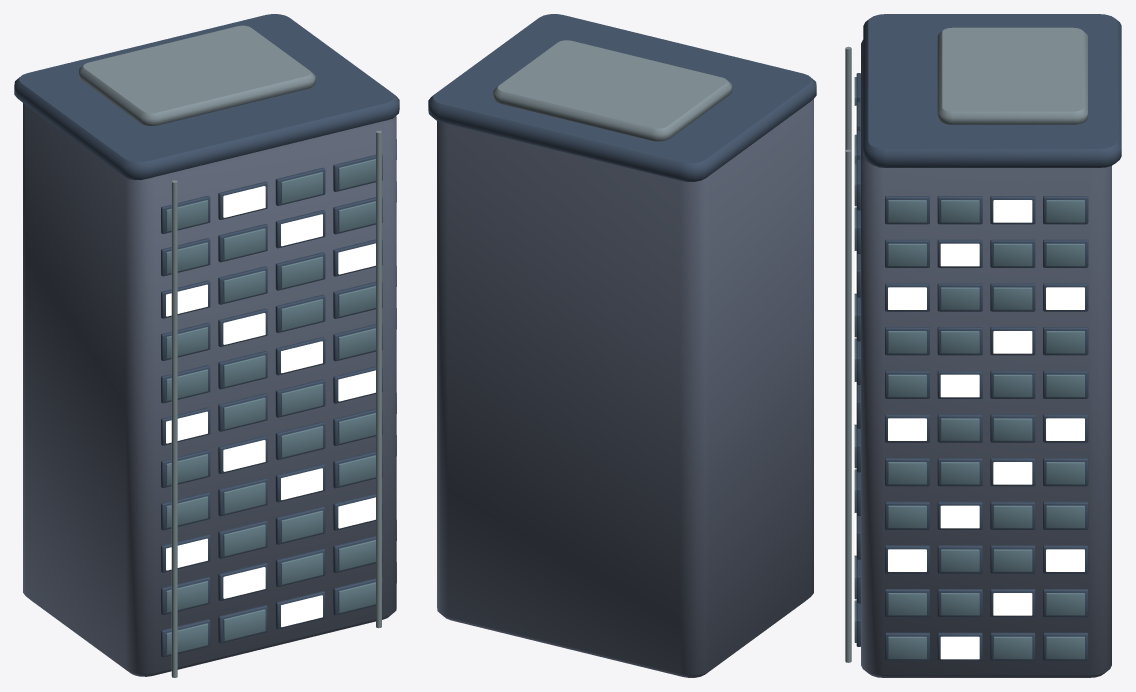
The model's file is metro_tower_1.glb.
The picture shows the model from 3 angles, left to right: view 1: azimuth 30°, elevation 25°; view 2: azimuth 150°, elevation 25°; view 3: azimuth 270°, elevation 25°; orthographic projection. The views are drawn at different scales.
Visible parts, largest first — view 1: Metro_Tower_1; view 2: Metro_Tower_1; view 3: Metro_Tower_1.
Boxes of the visible parts, x1,y1,x2,y2 form: Metro_Tower_1: [14, 14, 399, 677]; Metro_Tower_1: [428, 14, 816, 677]; Metro_Tower_1: [845, 14, 1121, 677].
Size of the model in its own units: 8.17 by 14.81 by 6.83.
